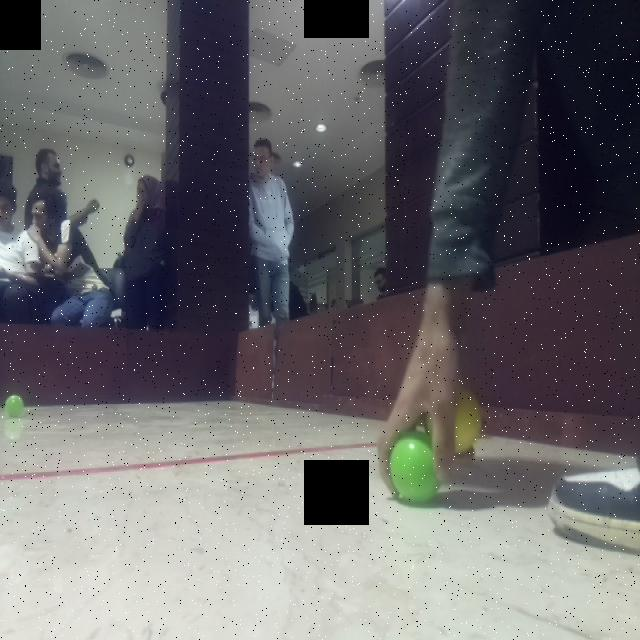ball: (5, 393, 24, 423)
